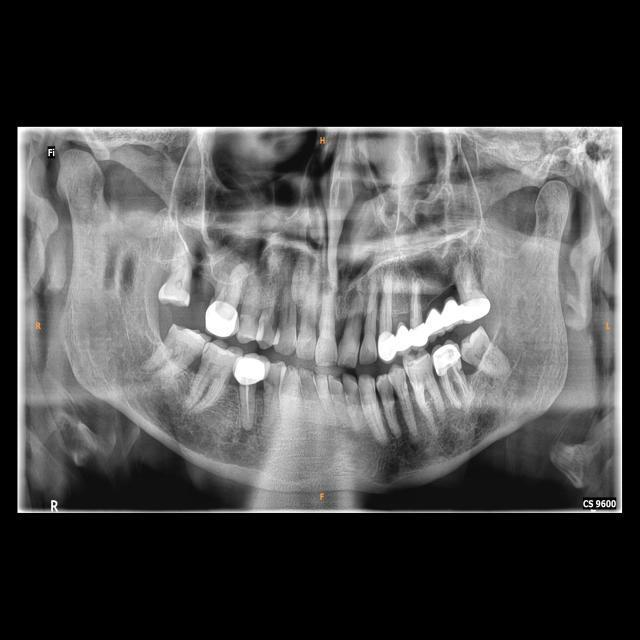dentin-curugu: (262, 362, 282, 389), (385, 384, 394, 406)
kanal-tedavisi: (443, 367, 467, 404), (240, 385, 252, 423)
kaplama: (203, 304, 236, 334), (236, 358, 265, 385), (460, 295, 490, 320), (429, 346, 461, 368), (408, 326, 428, 352), (380, 333, 398, 358)
kopru: (422, 295, 461, 337), (392, 312, 414, 353)
